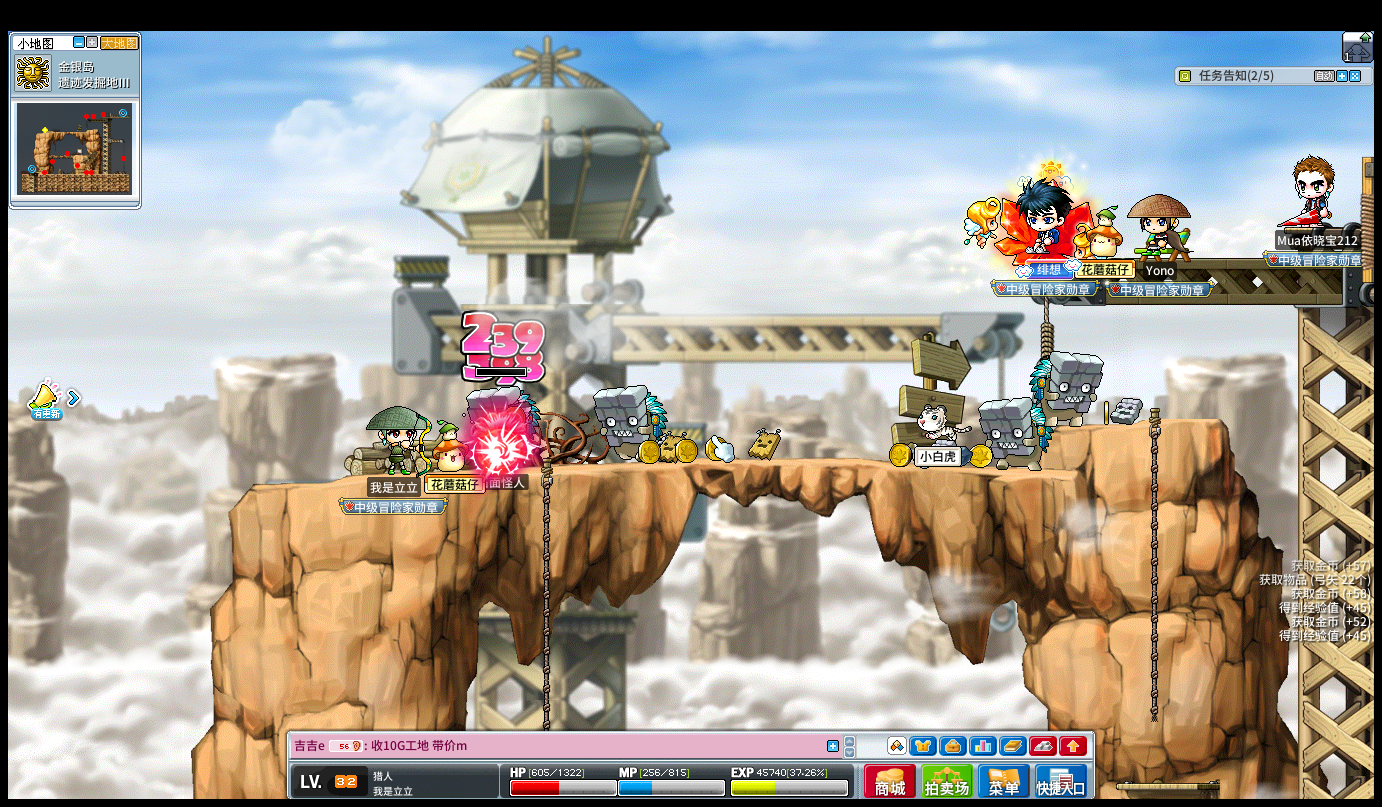floor: (260, 455, 1111, 479), (1068, 416, 1227, 432)
monster: (593, 384, 668, 465), (1031, 351, 1104, 428), (980, 397, 1049, 472), (465, 384, 539, 447)
rope: (1146, 404, 1160, 723), (539, 460, 552, 706)
